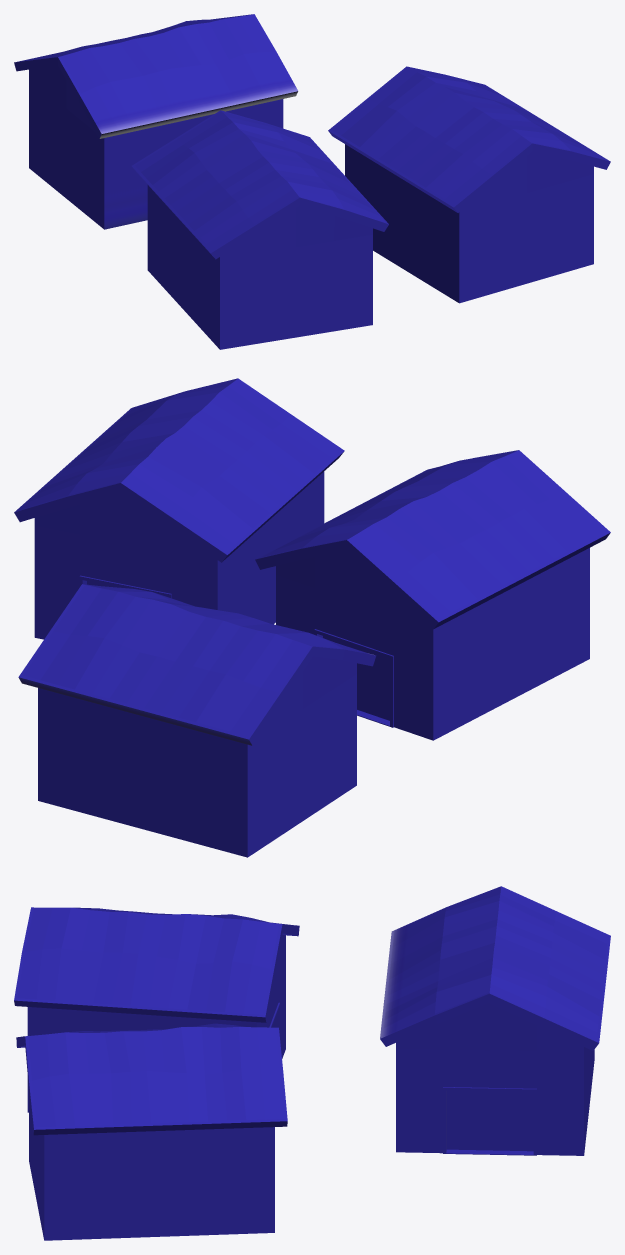
File: SettlementThree.fbx
3 views of the same model, one above another, from view 1: azimuth 30°, elevation 25°; view 2: azimuth 150°, elevation 25°; view 3: azimuth 270°, elevation 25° (orthographic). The views are drawn at different scales.
Parts seen in each view (by area): view 1: Settlement; view 2: Settlement; view 3: Settlement.
Boxes of the visible parts, box(x1,y1,x2,y2) form: Settlement: box(14, 14, 610, 349); Settlement: box(14, 378, 610, 857); Settlement: box(14, 886, 610, 1240).
Bounding box in the file's own units: 32.36 × 11.55 × 36.95.
